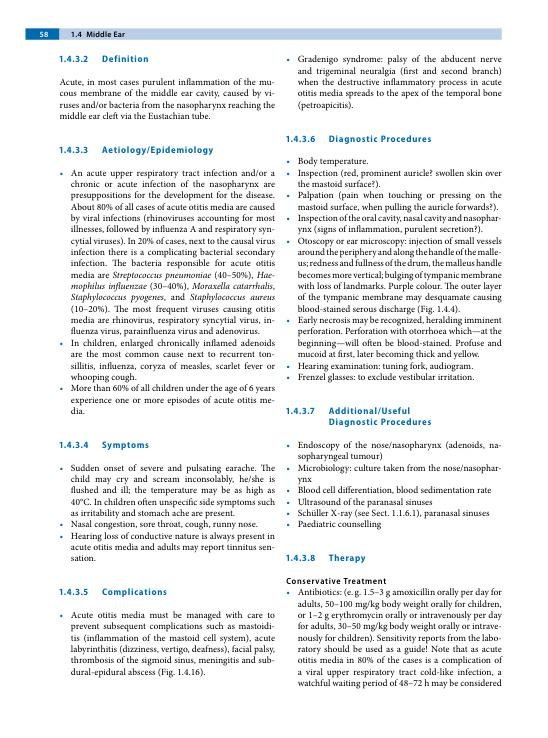header: (70, 29, 126, 38)
list: (57, 167, 278, 416), (285, 154, 504, 384), (56, 461, 278, 566), (285, 586, 504, 691), (285, 439, 502, 533), (56, 609, 277, 680), (285, 53, 503, 112)
sub-section-heading: (328, 406, 432, 428), (101, 145, 215, 156), (328, 133, 432, 145), (285, 576, 388, 585), (101, 586, 168, 598), (101, 52, 150, 64), (101, 440, 151, 451), (328, 553, 367, 564)
text: (59, 77, 276, 121)
